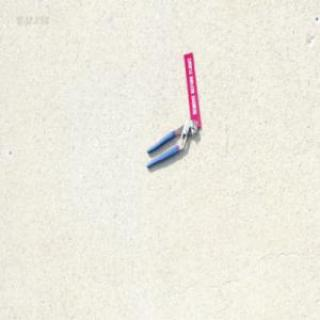LuggageTagtrack_idkeyframe: (183, 50, 201, 126)
Pliertrack_idkeyframe: (145, 117, 197, 168)
